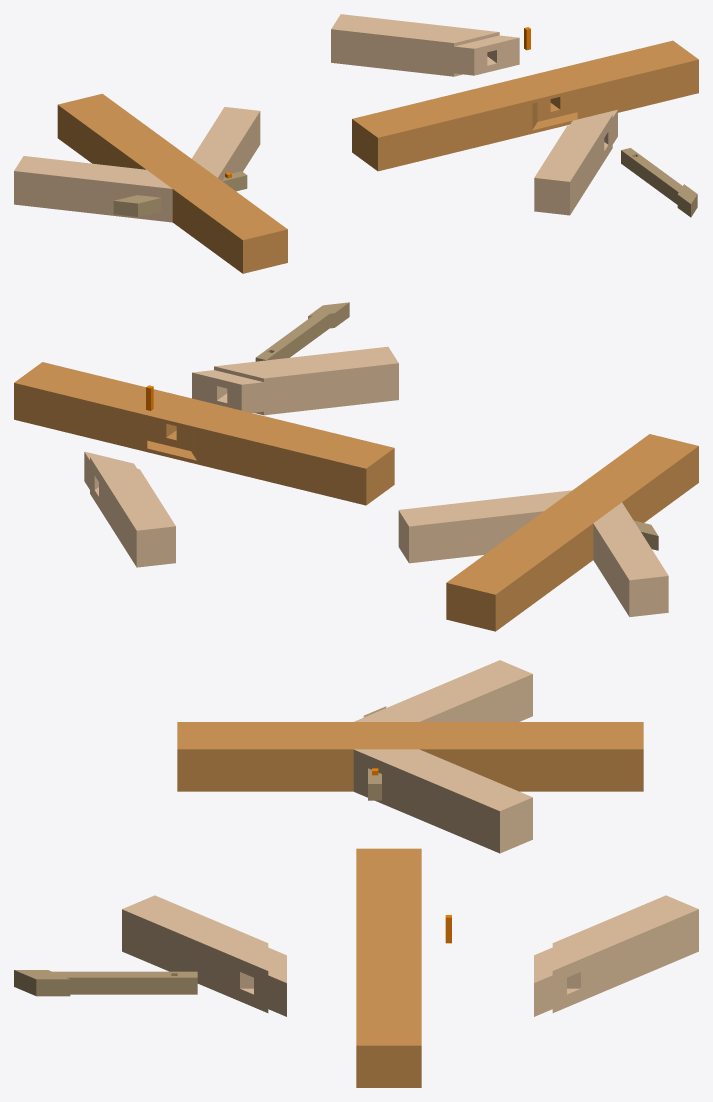
The picture shows the model from 3 angles, top to bottom: view 1: azimuth 30°, elevation 25°; view 2: azimuth 150°, elevation 25°; view 3: azimuth 270°, elevation 25°; orthographic projection. The views are drawn at different scales.
Bounding box in the file's own units: 19.56 × 2.1 × 14.68.
